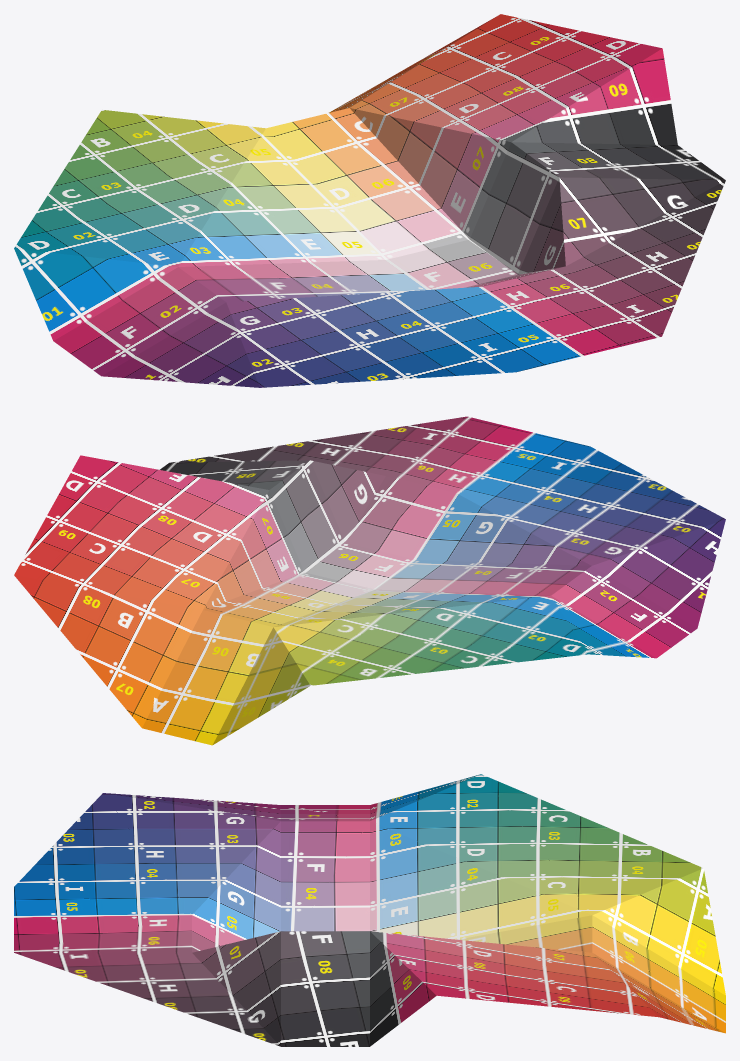
The model's file is PlaneRender.obj.
3 views of the same model, one above another, from view 1: azimuth 30°, elevation 25°; view 2: azimuth 150°, elevation 25°; view 3: azimuth 270°, elevation 25° (orthographic). The views are drawn at different scales.
Visible parts, largest first — view 1: Planetest_Mesh; view 2: Planetest_Mesh; view 3: Planetest_Mesh.
Part boxes in pixels (x1=…): Planetest_Mesh: x1=14, y1=14, x2=725, y2=387; Planetest_Mesh: x1=14, y1=416, x2=725, y2=745; Planetest_Mesh: x1=14, y1=774, x2=725, y2=1046.
Bounding box in the file's own units: 15.5 × 3.5 × 16.
1 material, 1 textured.
